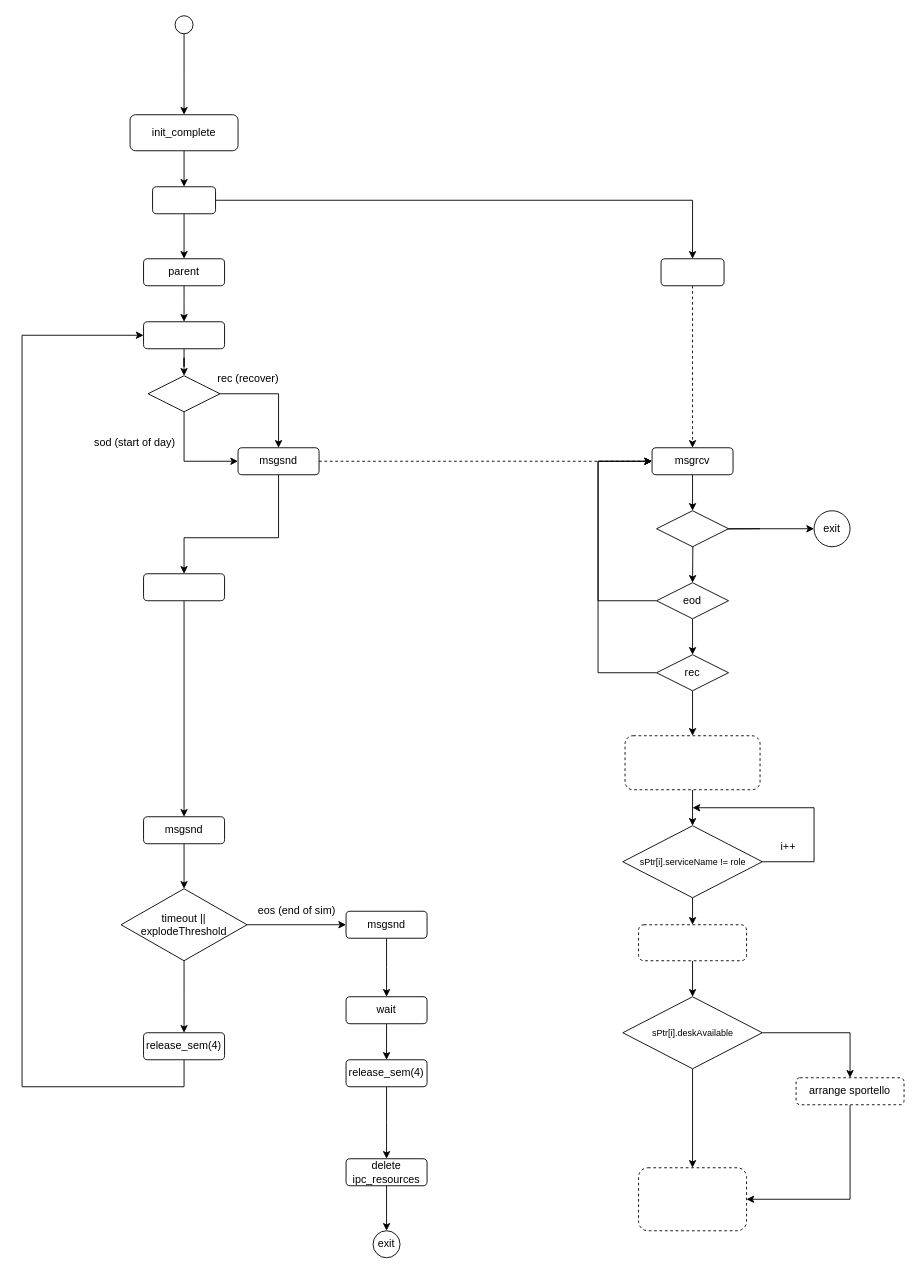
Image size: 920x1274. Some labels were removed from this diagram. Each missing label, with the centre of its shape:
"child" belongs at point 692,272.
"d > 0" belongs at point 183,393.
"deskSemId = sPtr[i].deskSemId deskSemun = sPtr[i].deskSemun" belongs at point 692,1199.
"eos" belongs at point 692,528.
"fork" belongs at point 184,200.
"reserve_sem(1)" belongs at point 184,335.
"reserve_sem(3)" belongs at point 184,587.
"sportelloFound = false sportelloTaken = false intdex= 0 i = 0" belongs at point 692,762.
"sportelloFound = true" belongs at point 692,942.
